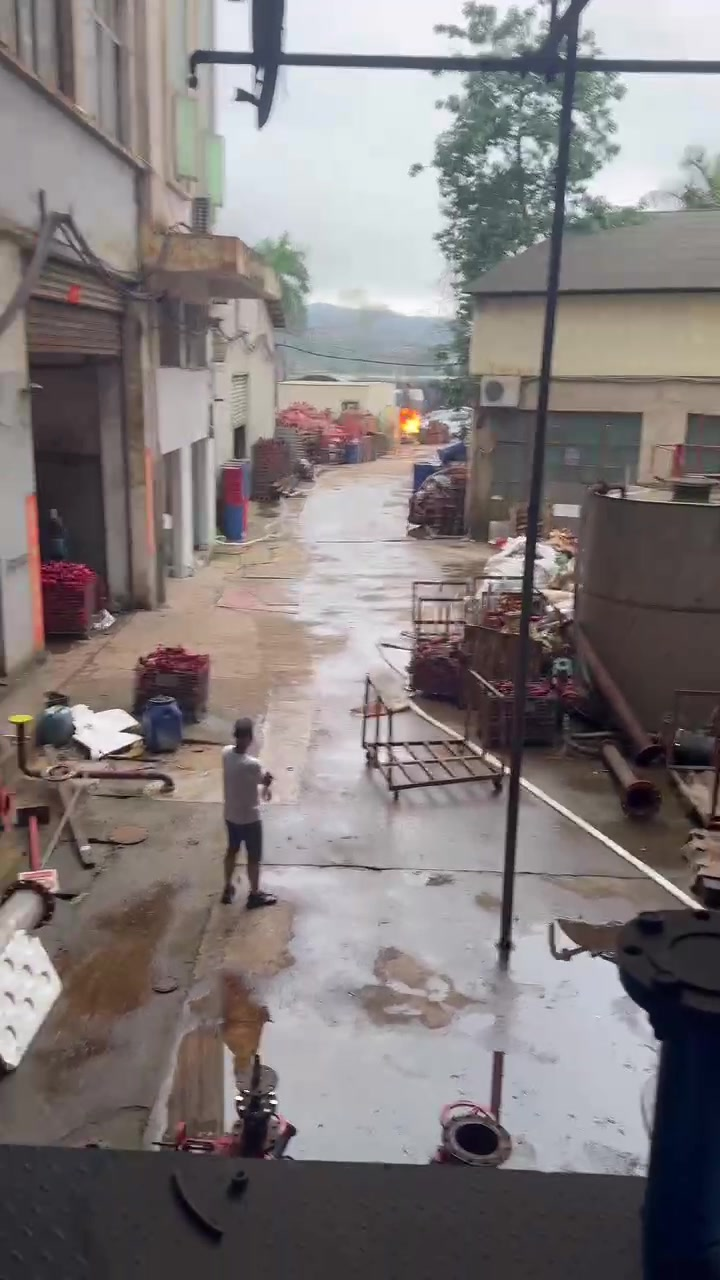fire: (398, 407, 418, 433)
